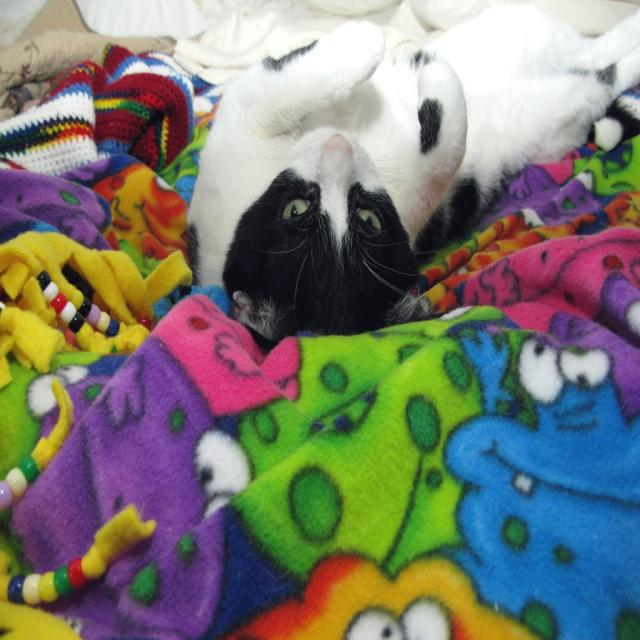Cat: (187, 2, 638, 349)
